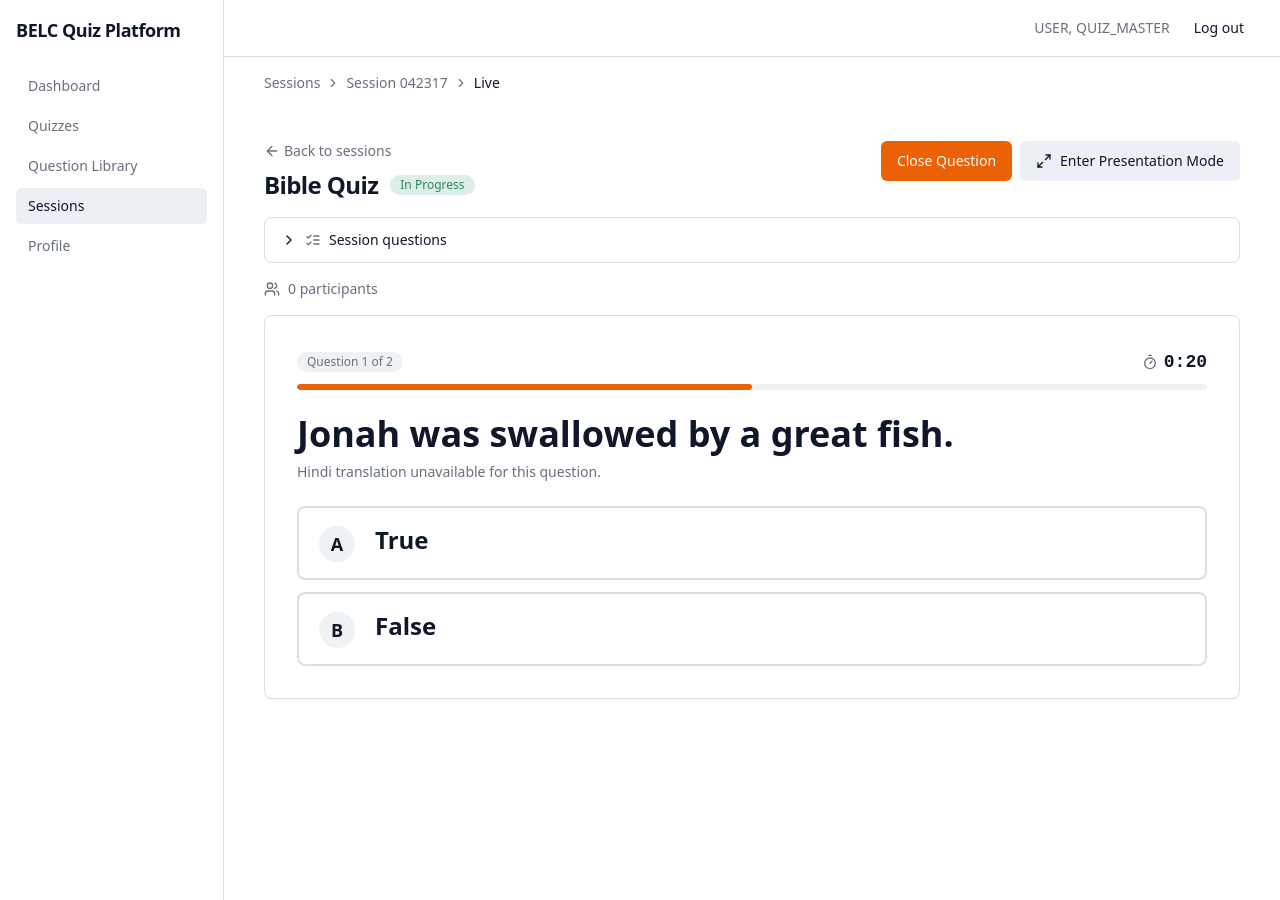
Test: SessionLivePage › converges instead of erroring when the timer closed the question first
The width and height of the screenshot is (1280, 900).
Click the button "Close Question" at (946, 161), box [881,141,1012,181]
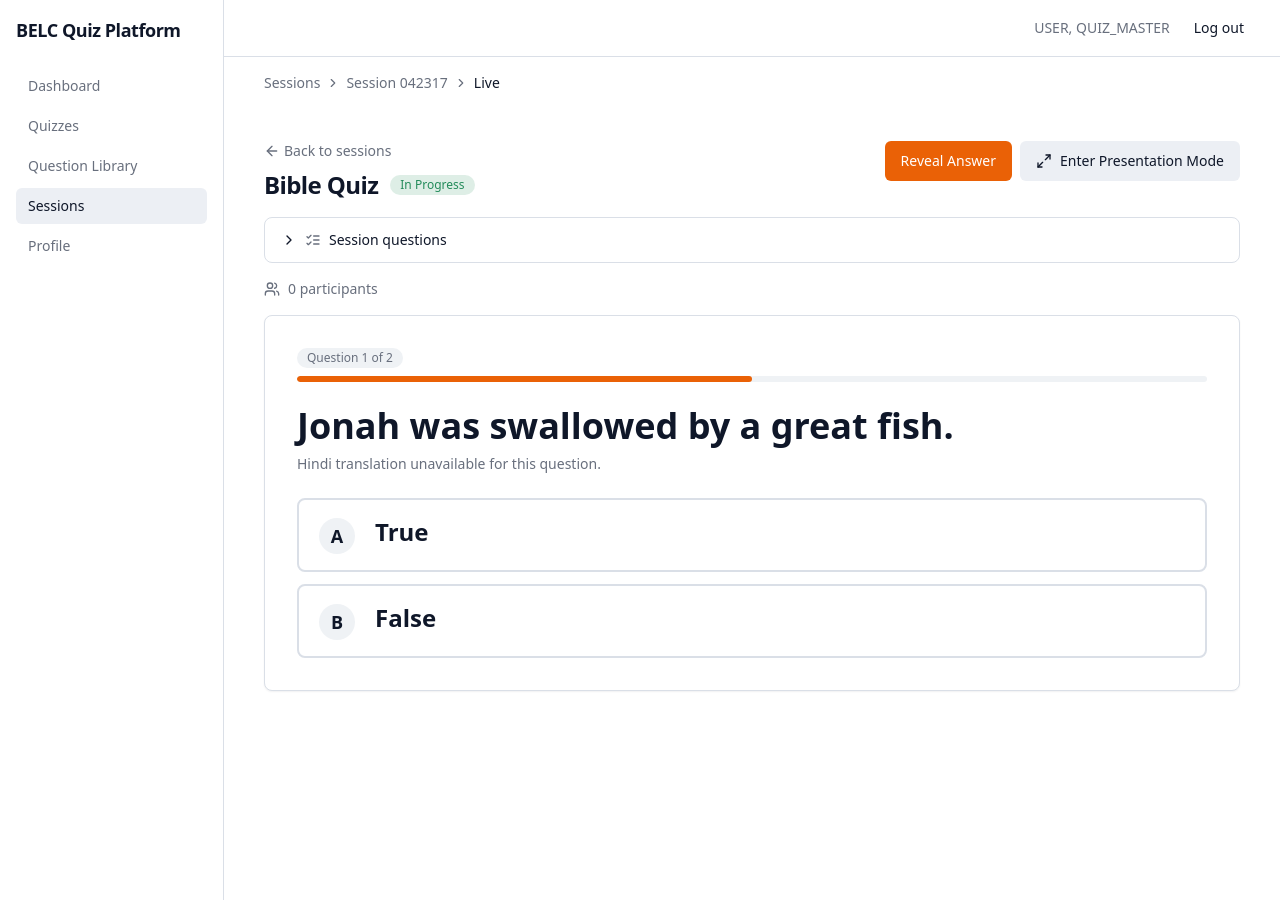
Check: the button "Reveal Answer" is shown, box [885,141,1012,181]
